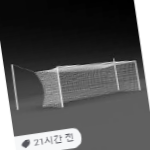goals: (35, 59, 142, 110)
